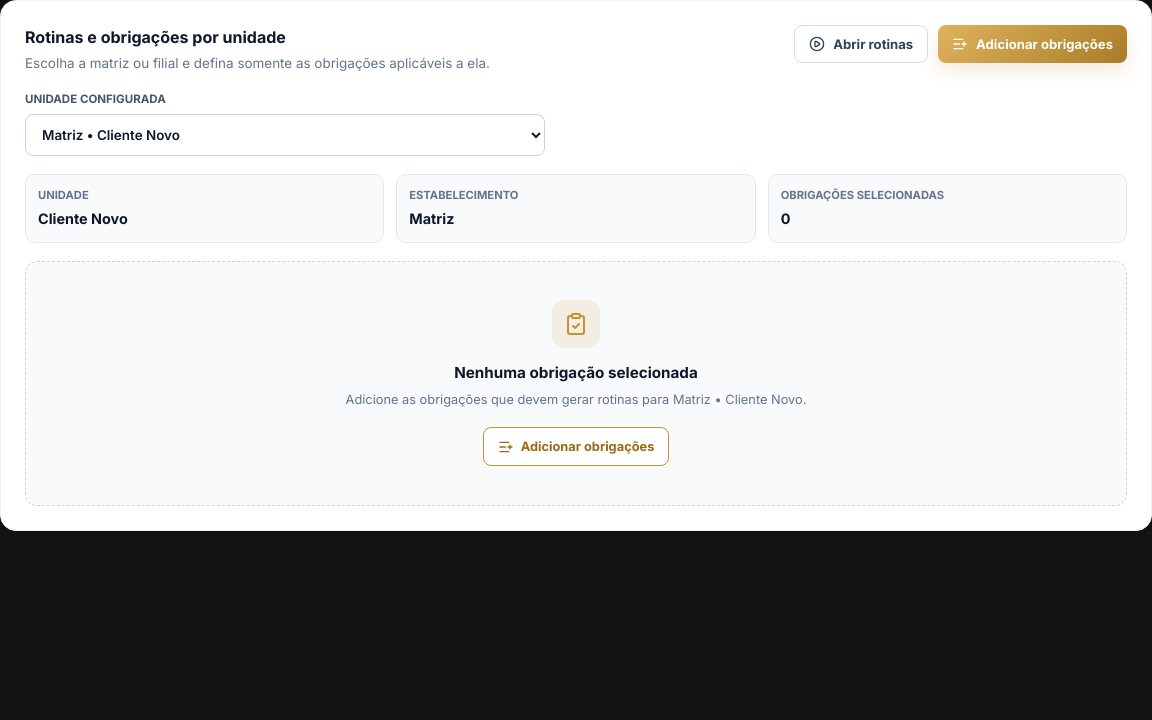
Test case: TabProtocolosEntregas › recarrega a versão canônica depois de um conflito de gravação
What coordinates should you click on to do the following:
click the button "Adicionar obrigações" below "Matriz • Cliente Novo"
I would click on:
 (576, 447)
Its box is [483, 427, 669, 466].
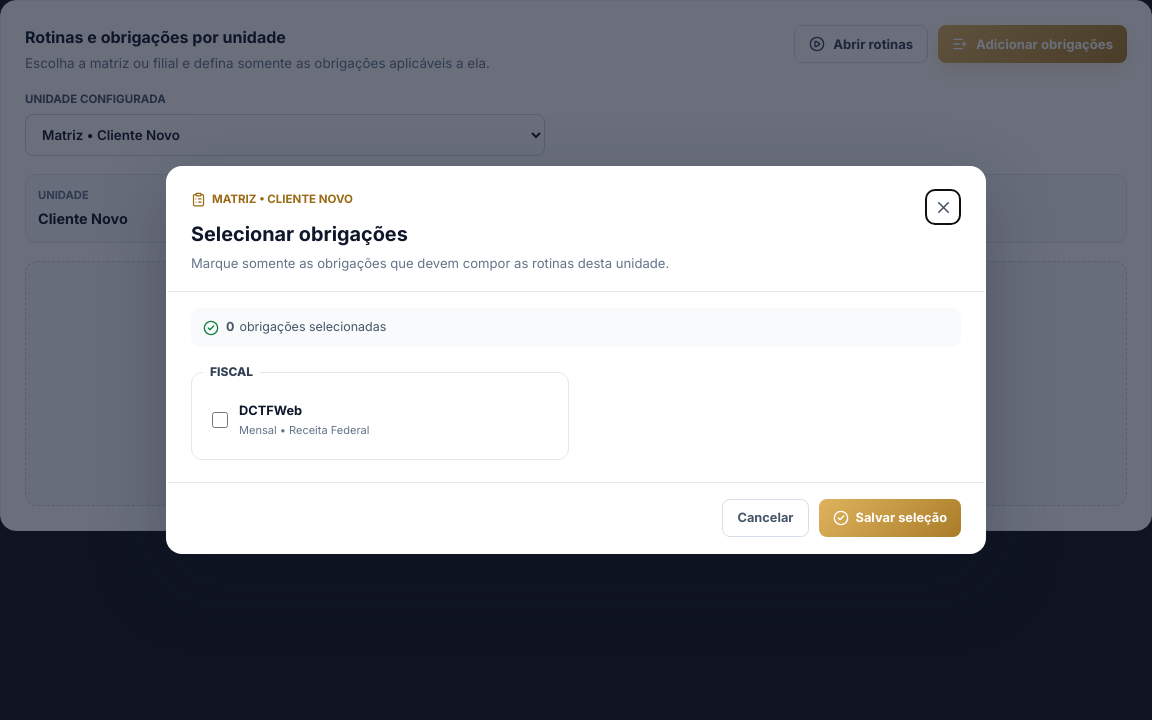
What coordinates should you click on to do the following:
click the checkbox labelled "DCTFWeb Mensal • Receita Federal"
I would click on:
 (220, 420)
Its box is [212, 412, 228, 428].
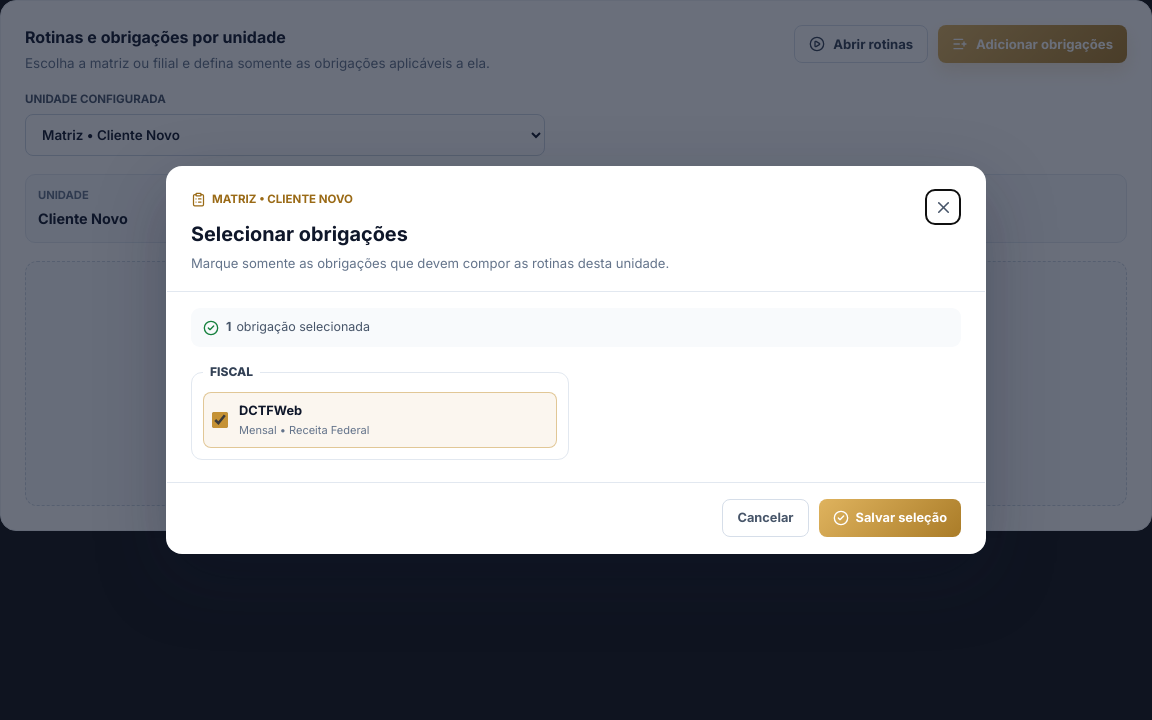
What coordinates should you click on to do the following:
click the button "Salvar seleção"
I would click on:
 (890, 518)
Its box is [819, 499, 961, 537].
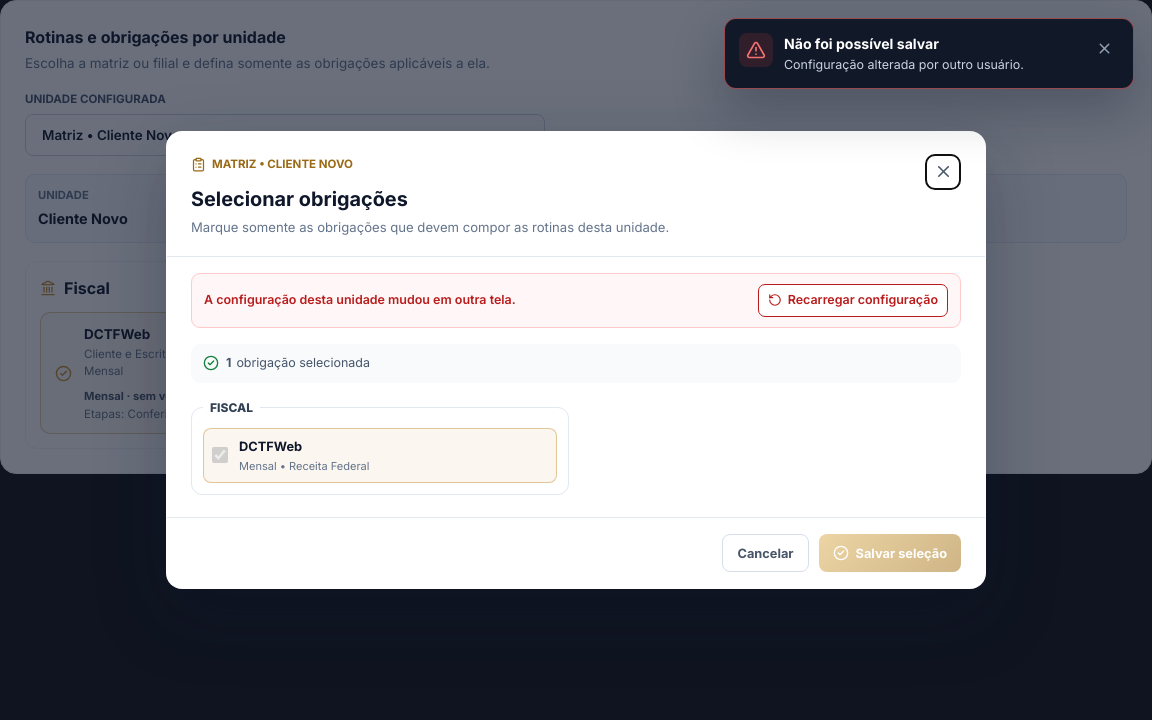
What coordinates should you click on to do the following:
click the button "Recarregar configuração"
I would click on:
 (853, 300)
Its box is [758, 284, 948, 317].
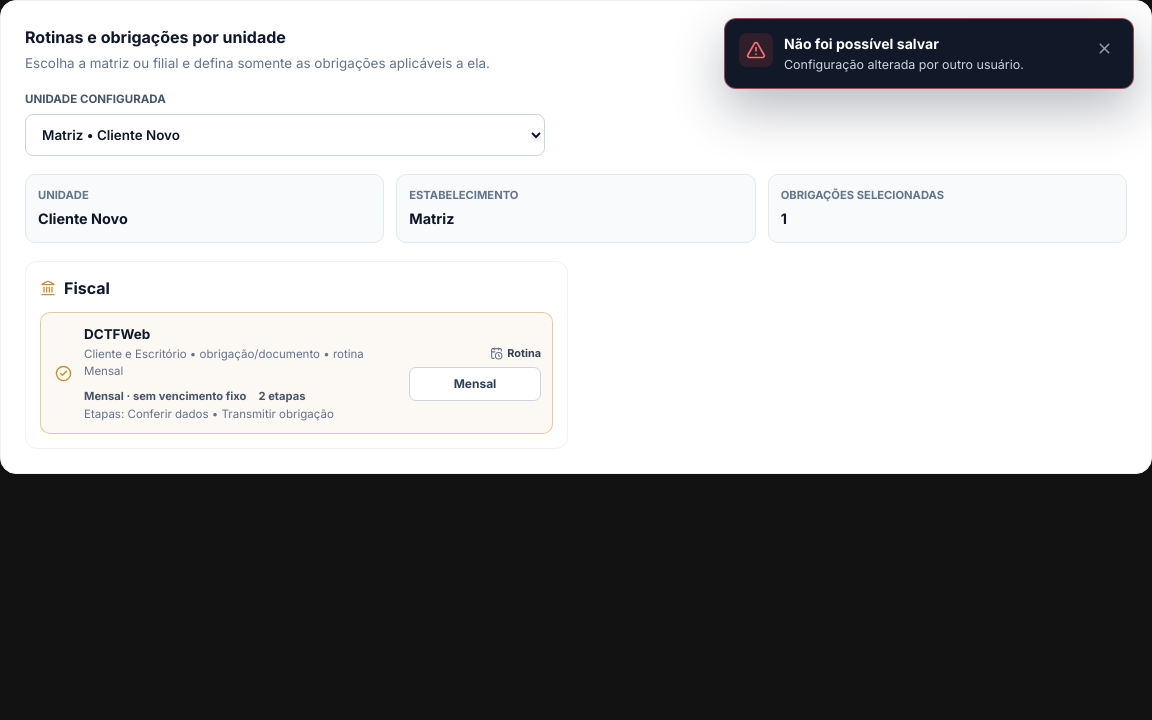
Result: the text "DCTFWeb" is shown at [84, 326, 150, 342]
Result: the dialog is gone
